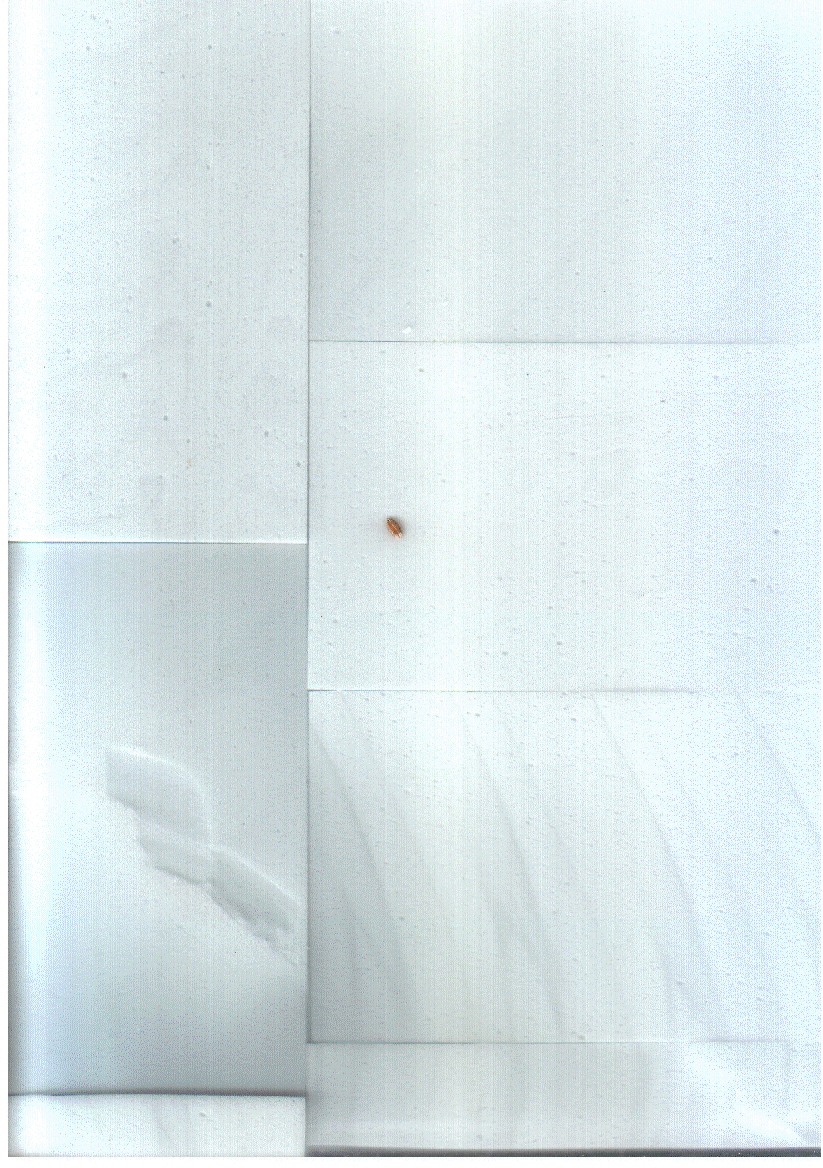grains: (376, 500, 418, 556)
